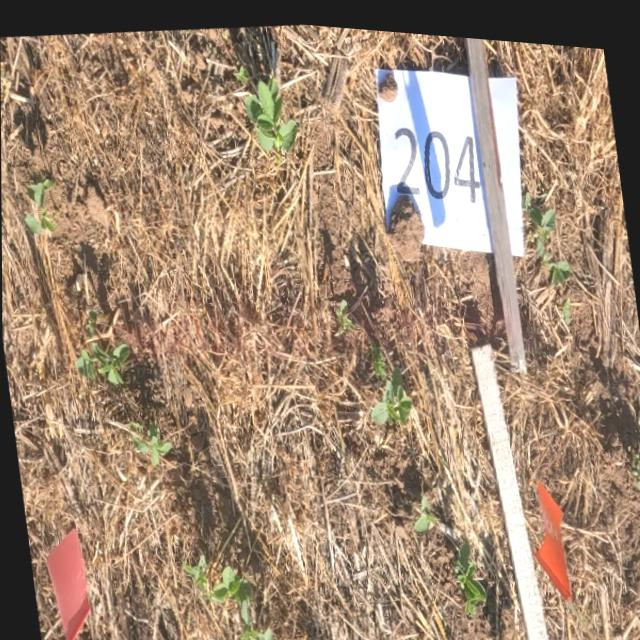soy_plant: (244, 73, 296, 145), (74, 338, 129, 382), (24, 176, 54, 233), (234, 60, 249, 80), (86, 309, 97, 333)
